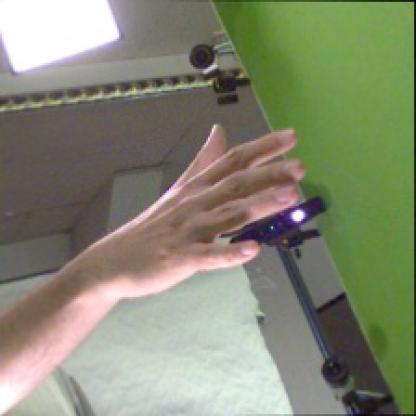Hand: (85, 122, 307, 296)
